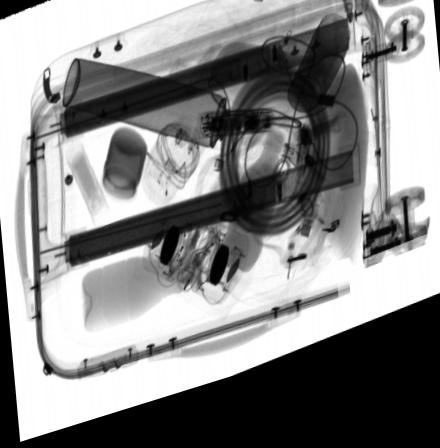Sprayer: (61, 62, 247, 172)
